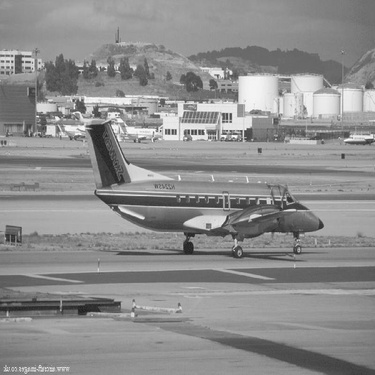airplane: (30, 93, 354, 274)
